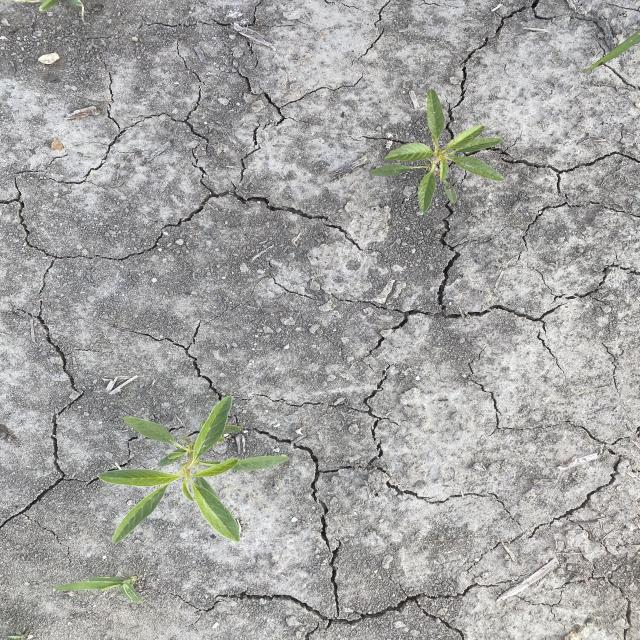Waterhemp: (95, 394, 292, 545), (368, 87, 508, 214)
